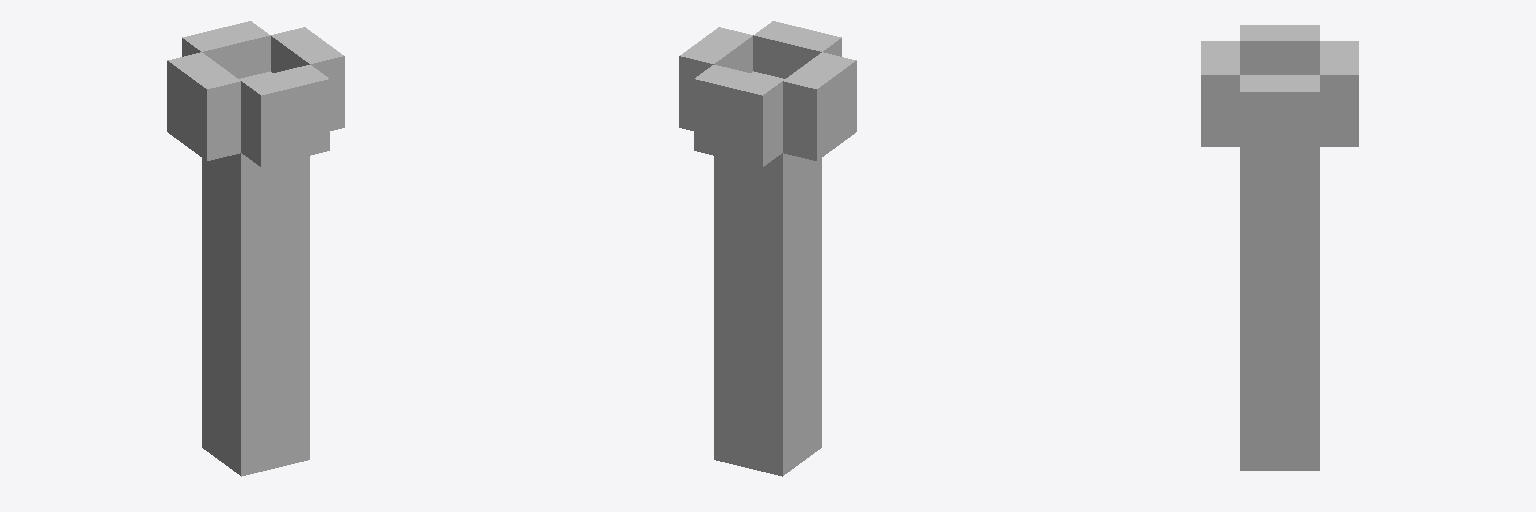
The model's file is Torch.obj.
3 renders of one model, left to right at view 1: azimuth 30°, elevation 25°; view 2: azimuth 150°, elevation 25°; view 3: azimuth 270°, elevation 25°, orthographic.
Parts seen in each view (by area): view 1: object 1; view 2: object 1; view 3: object 1.
Boxes of the visible parts, <box> form: object 1: <box>167,21,344,476</box>; object 1: <box>679,21,856,476</box>; object 1: <box>1201,25,1358,470</box>.
Size of the model in its own units: 0.4 by 1.1 by 0.4.